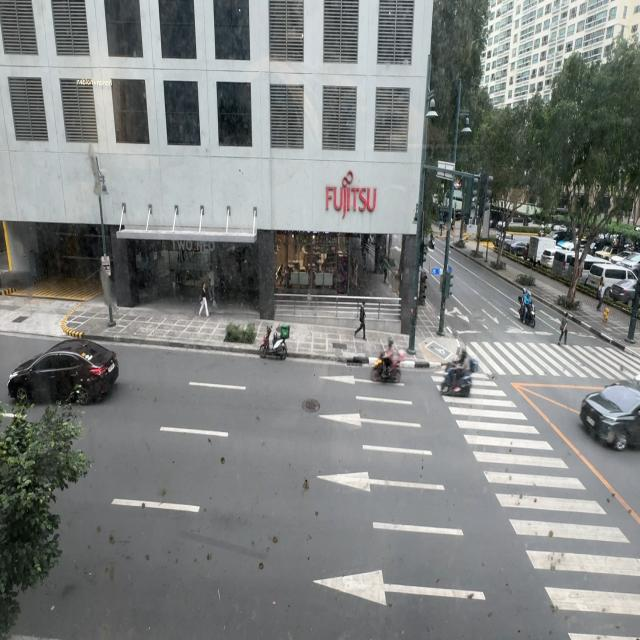crossing: (558, 311, 568, 346)
pedestrain: (354, 302, 367, 338), (200, 283, 211, 320), (596, 280, 604, 312)
